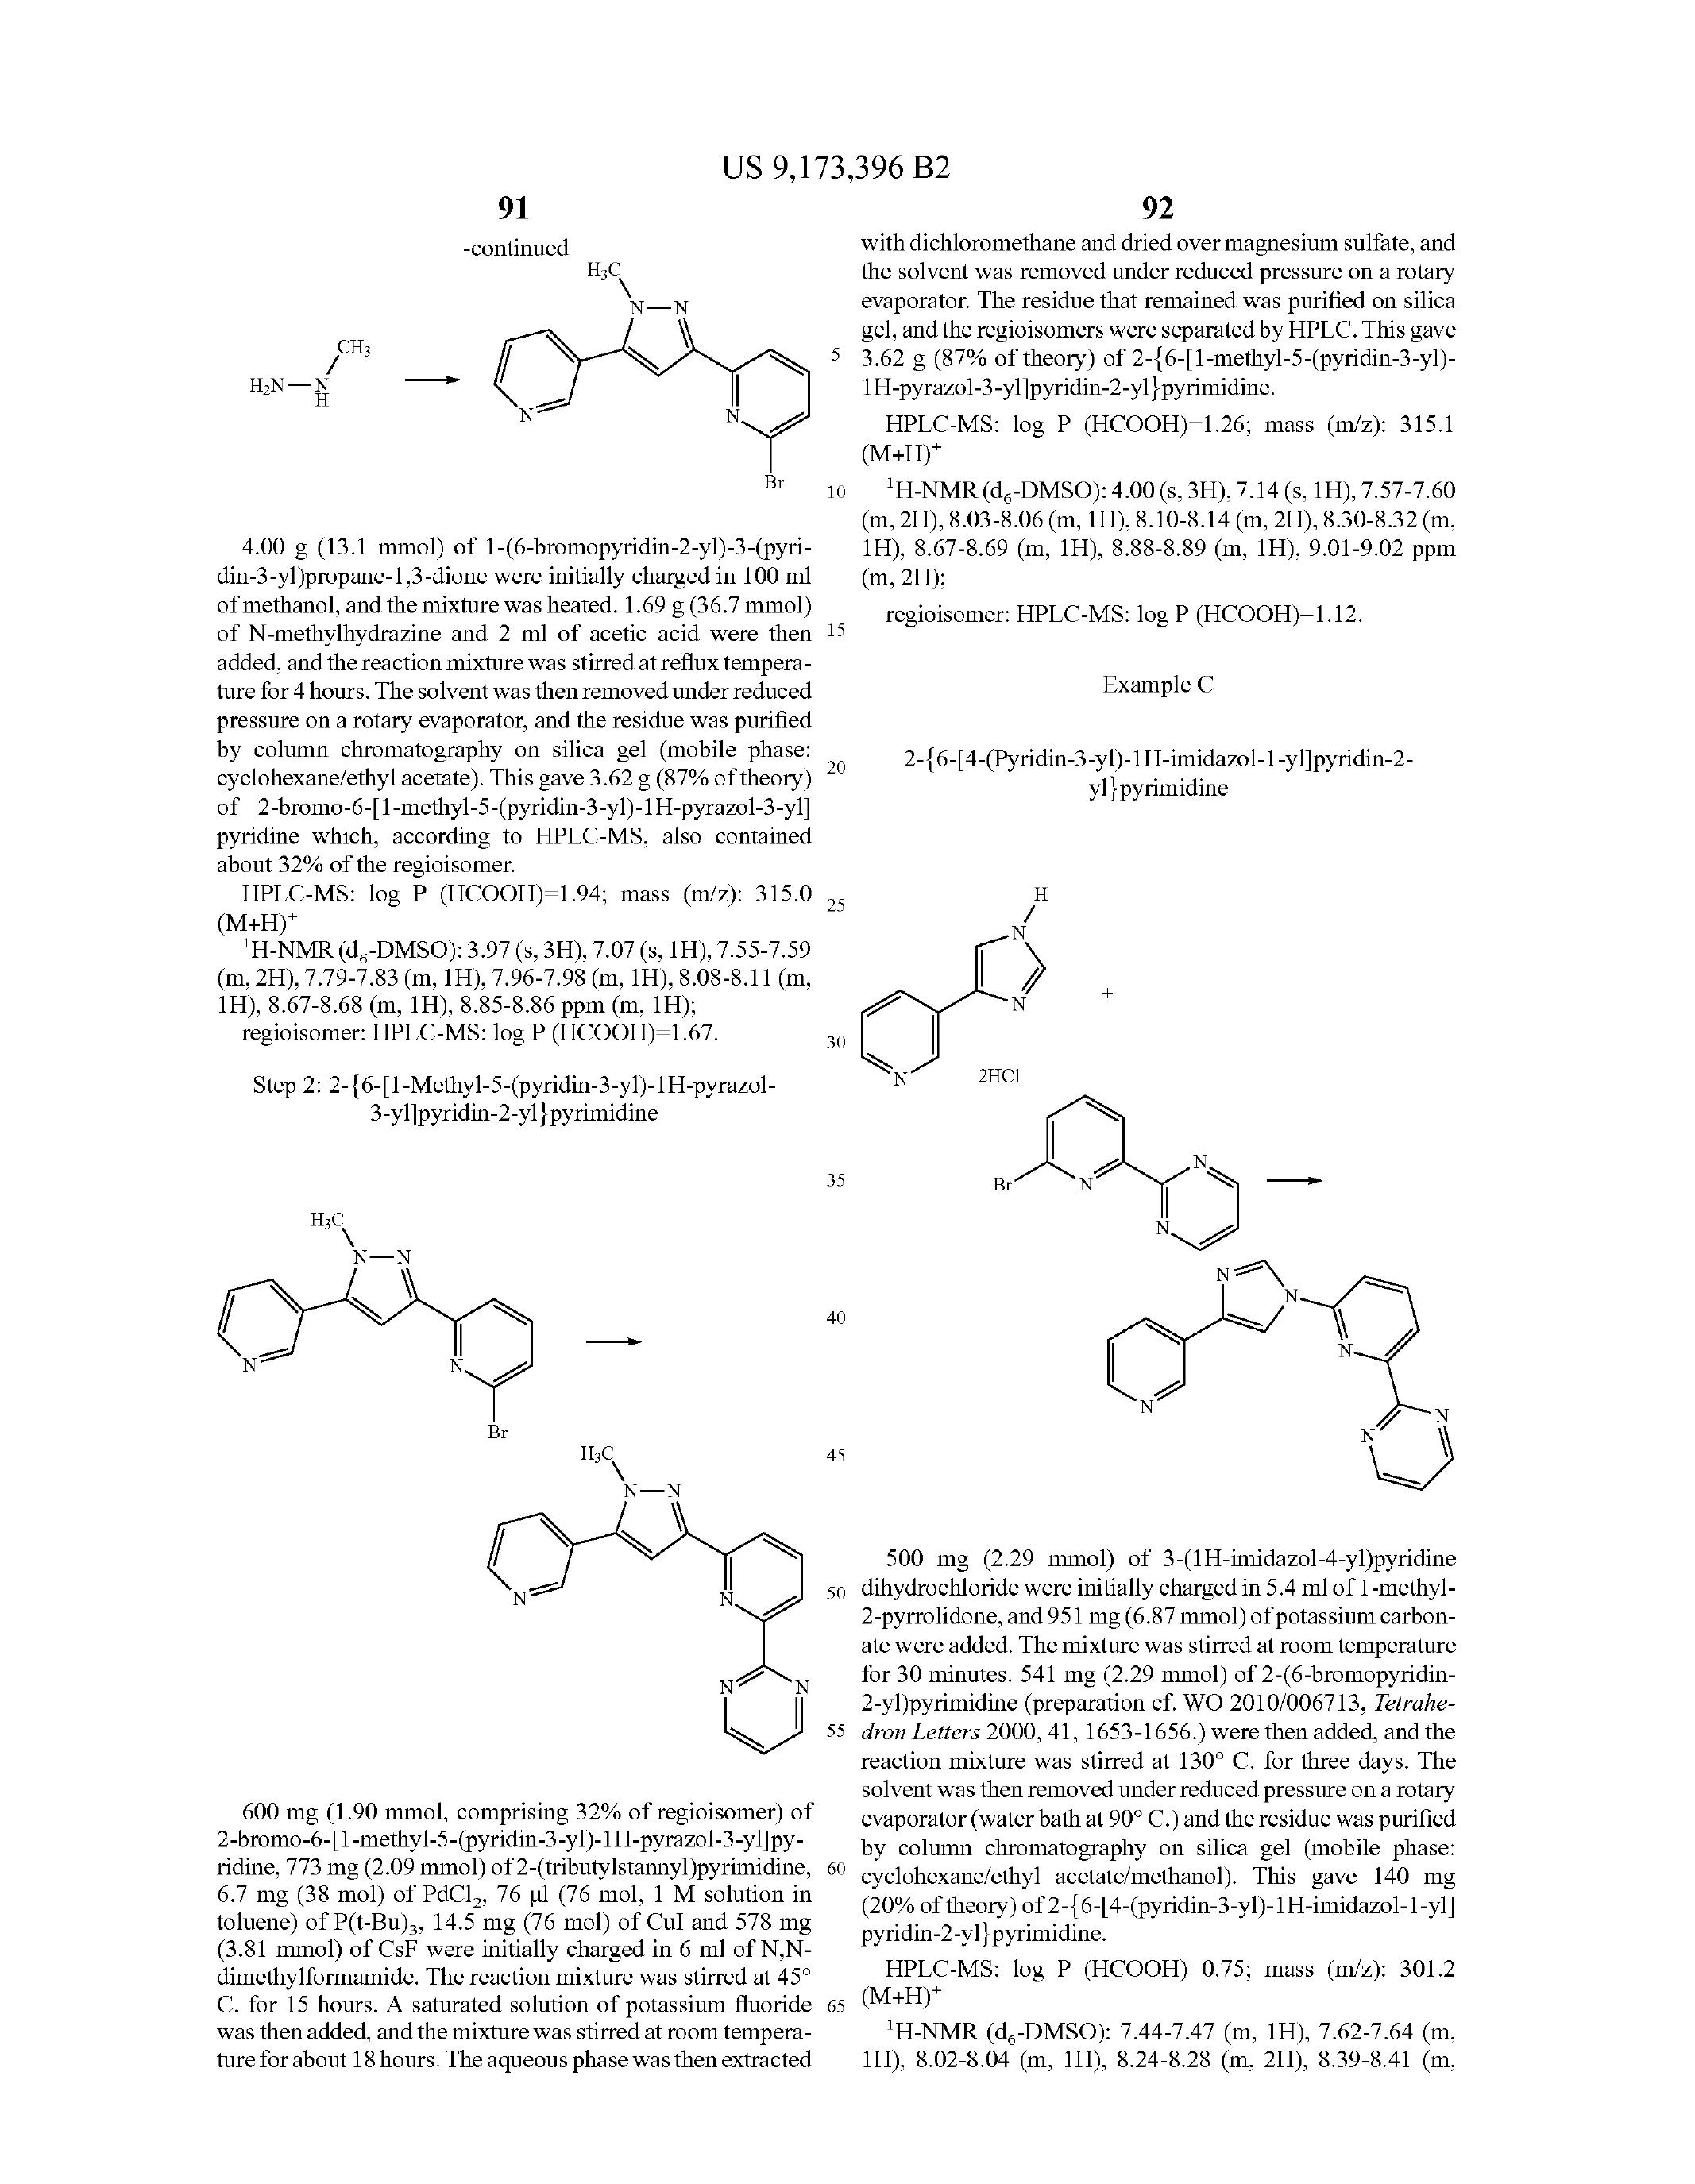reactions: (856, 856, 1495, 1489), (129, 174, 823, 493)
